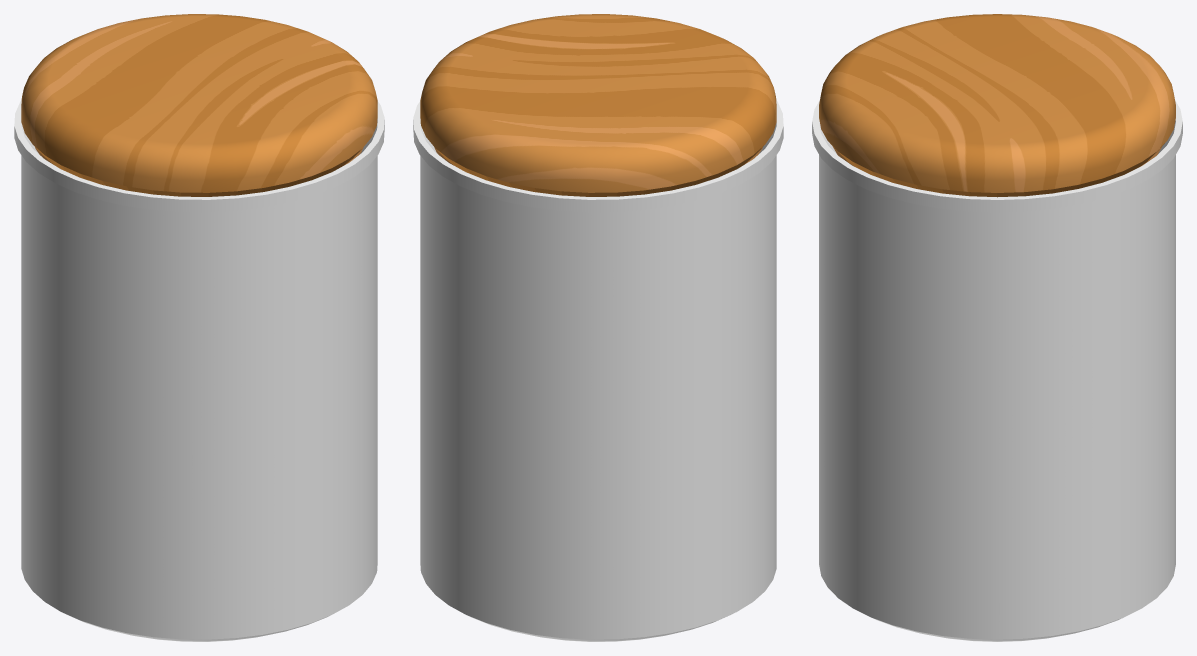
The model's file is Candy Jar.glb.
3 renders of one model, left to right at view 1: azimuth 30°, elevation 25°; view 2: azimuth 150°, elevation 25°; view 3: azimuth 270°, elevation 25°, orthographic.
Visible parts, largest first — view 1: Candy_Jar, Lid; view 2: Candy_Jar, Lid; view 3: Candy_Jar, Lid.
Boxes of the visible parts, box(x1,y1,x2,y2) form: Candy_Jar: box(14, 100, 384, 641); Lid: box(21, 14, 377, 196); Candy_Jar: box(413, 100, 783, 641); Lid: box(420, 14, 776, 196); Candy_Jar: box(812, 100, 1182, 641); Lid: box(819, 14, 1175, 197).
Size of the model in its own units: 0.3251 by 0.48 by 0.3251.
6 materials, 6 textured.
